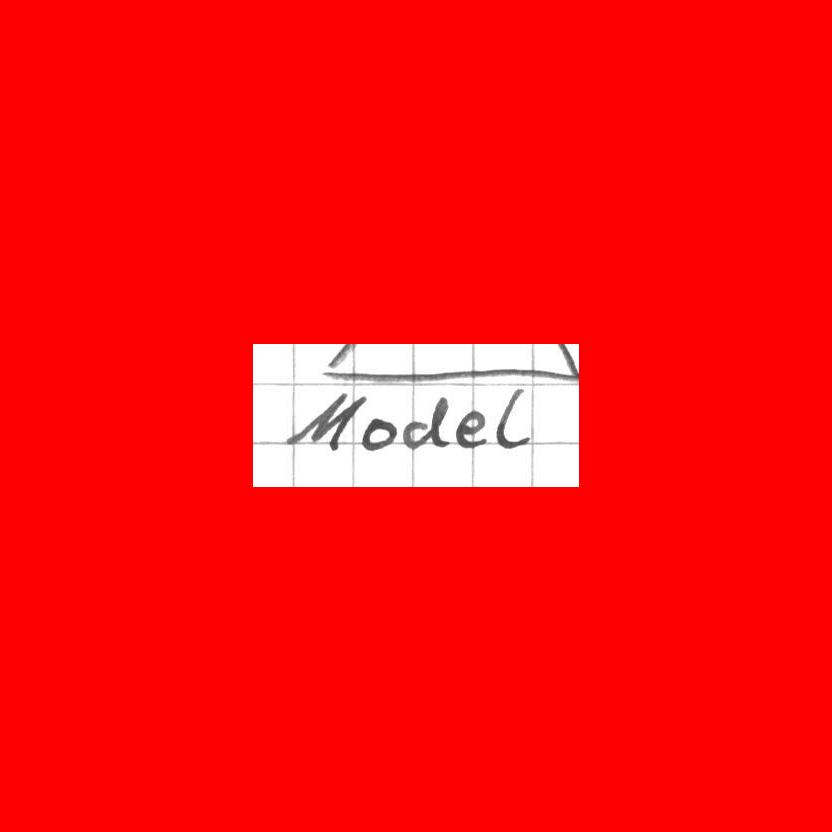Char: (284, 390, 363, 449), (401, 393, 448, 452), (494, 386, 532, 452), (360, 415, 399, 452), (454, 408, 488, 450)
